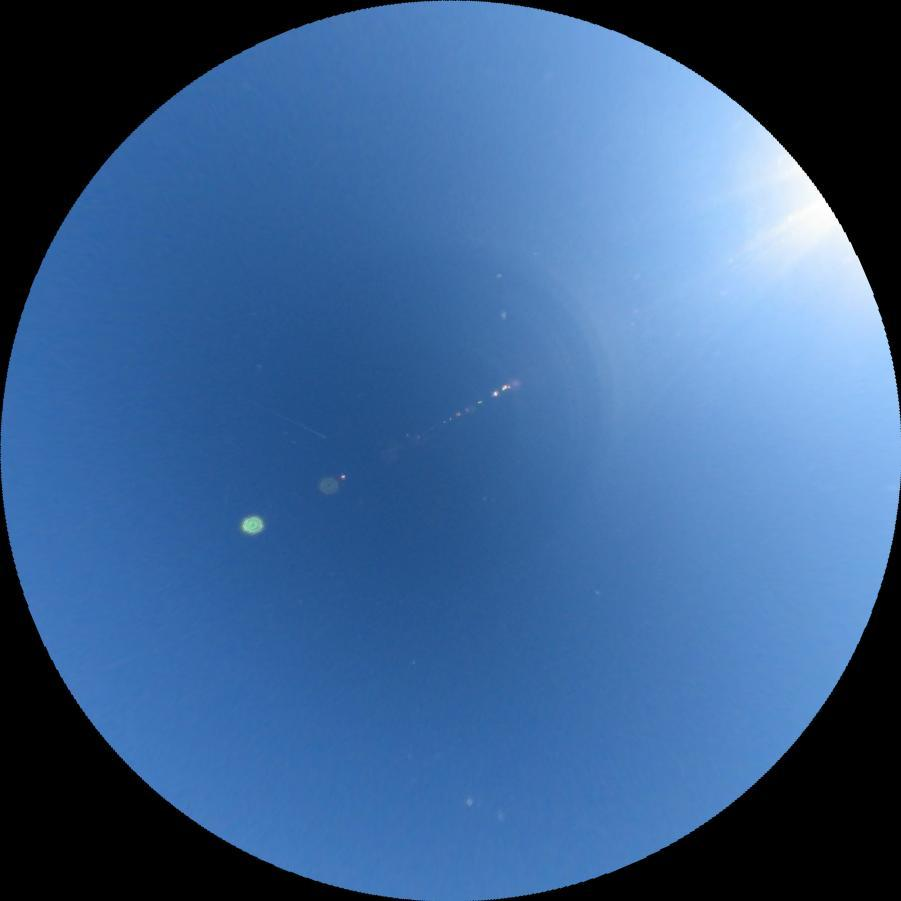contrail young: (255, 403, 333, 443), (219, 484, 229, 529), (408, 597, 438, 610)
